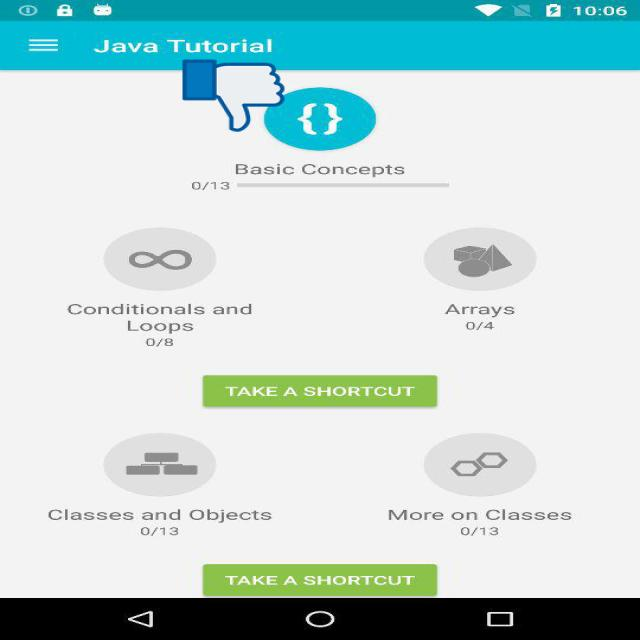obstruction: (182, 58, 284, 133)
